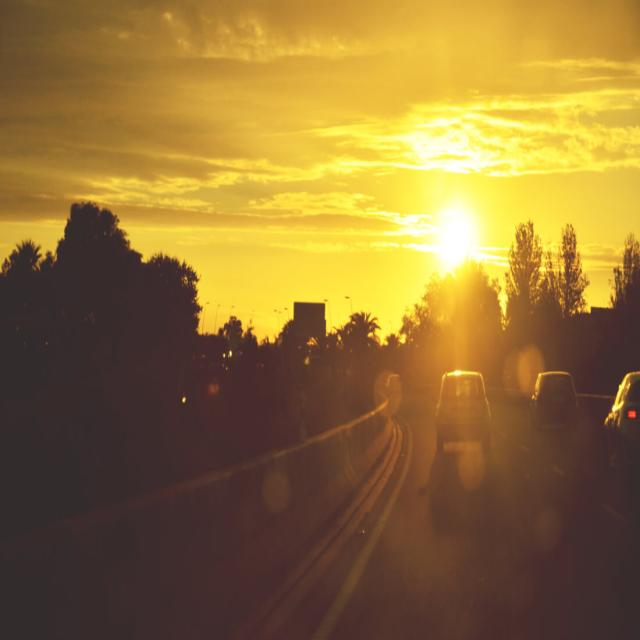sun: (407, 164, 502, 296)
